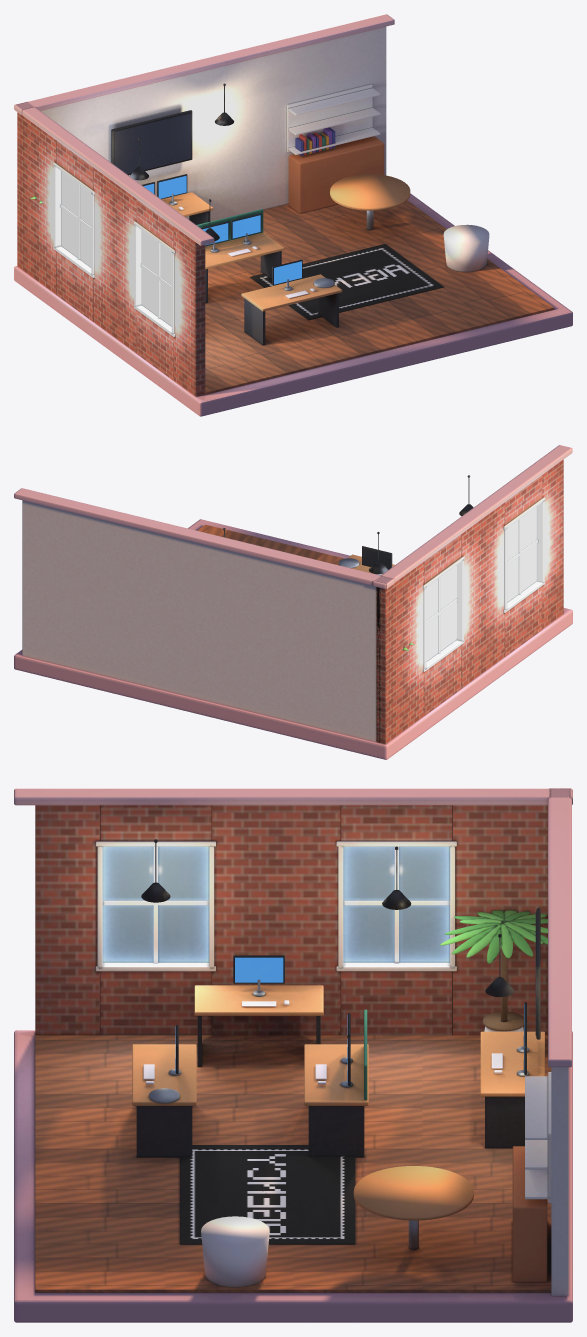
The model's file is oficina_bake.glb.
3 renders of one model, top to bottom at view 1: azimuth 30°, elevation 25°; view 2: azimuth 150°, elevation 25°; view 3: azimuth 270°, elevation 25°, orthographic. The views are drawn at different scales.
Parts seen in each view (by area): view 1: LAB_estatico3_exp; view 2: LAB_estatico3_exp; view 3: LAB_estatico3_exp.
Boxes of the visible parts, x1,y1,x2,y2 form: LAB_estatico3_exp: [14, 14, 572, 416]; LAB_estatico3_exp: [14, 445, 572, 759]; LAB_estatico3_exp: [14, 788, 572, 1322].
Size of the model in its own units: 7.55 by 3.38 by 6.5.
1 material, 1 textured.
